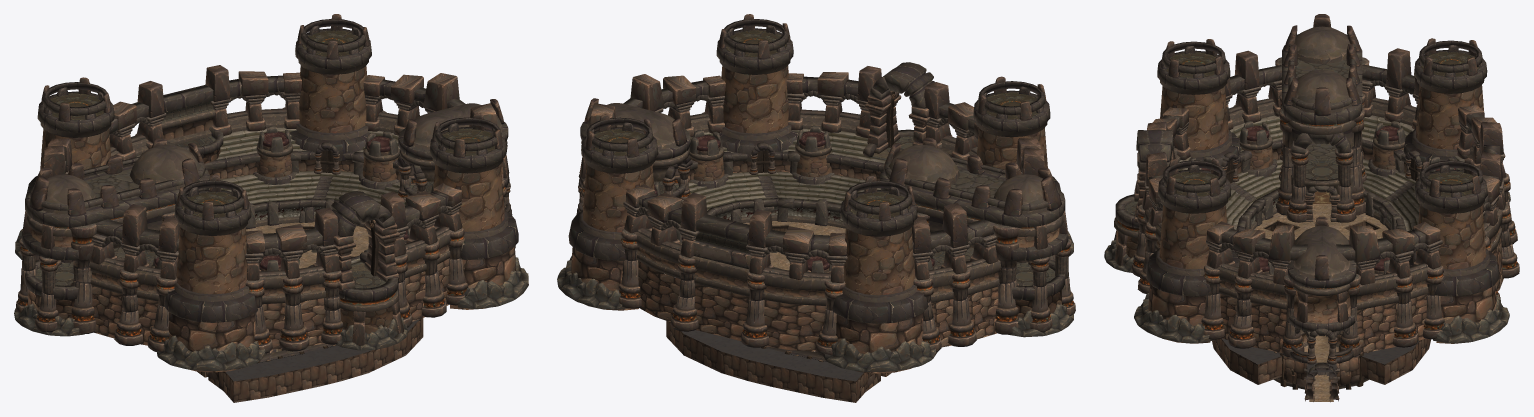
File: Arena-GranMaestro.glb
3 renders of one model, left to right at view 1: azimuth 30°, elevation 25°; view 2: azimuth 150°, elevation 25°; view 3: azimuth 270°, elevation 25°, orthographic. The views are drawn at different scales.
Parts seen in each view (by area): view 1: 6du_highmaulraid_arena_set0; view 2: 6du_highmaulraid_arena_set0; view 3: 6du_highmaulraid_arena_set0.
Part boxes in pixels (left/top/right/bottom): 6du_highmaulraid_arena_set0: left=14, top=14, right=528, bottom=402; 6du_highmaulraid_arena_set0: left=557, top=14, right=1075, bottom=402; 6du_highmaulraid_arena_set0: left=1104, top=14, right=1519, bottom=402.
Size of the model in its own units: 254 by 131 by 198.
38 materials, 38 textured.
